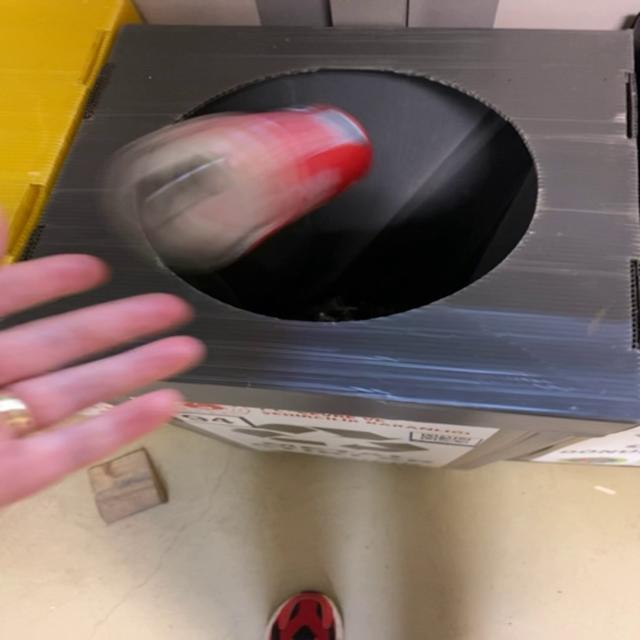Bin: (4, 24, 639, 469)
Metal: (103, 103, 372, 275)
